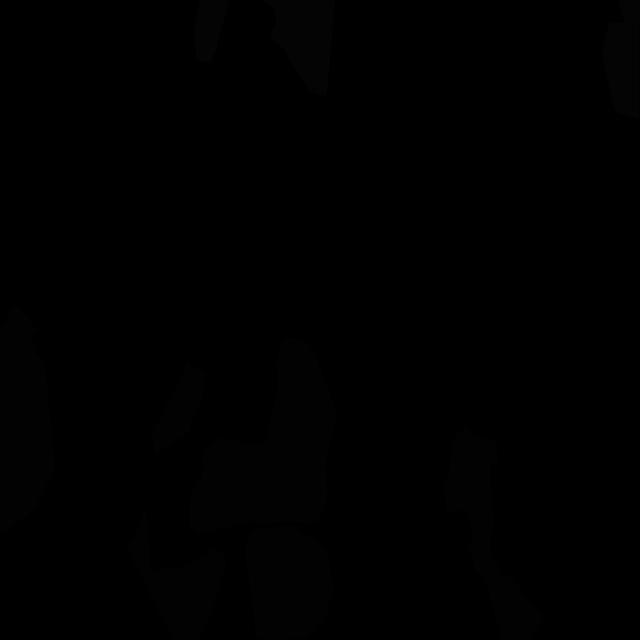cardboard: (188, 337, 337, 534), (442, 427, 545, 640), (127, 505, 227, 640), (0, 305, 55, 537), (245, 526, 334, 640), (151, 362, 206, 454)
soft_plastic: (194, 0, 335, 97), (601, 0, 640, 119)
